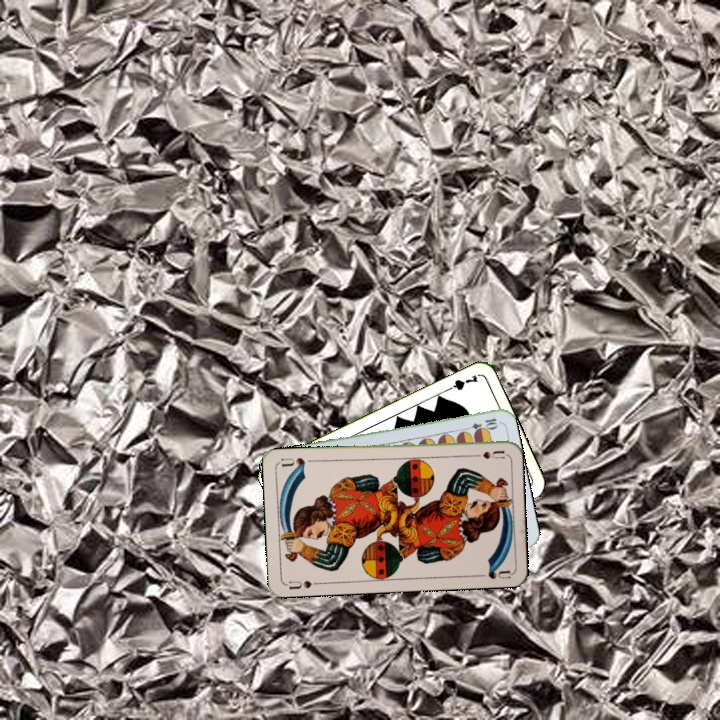E10: (460, 414, 500, 434)
G7: (441, 371, 481, 394)
SU: (466, 446, 506, 461), (283, 577, 323, 592)
